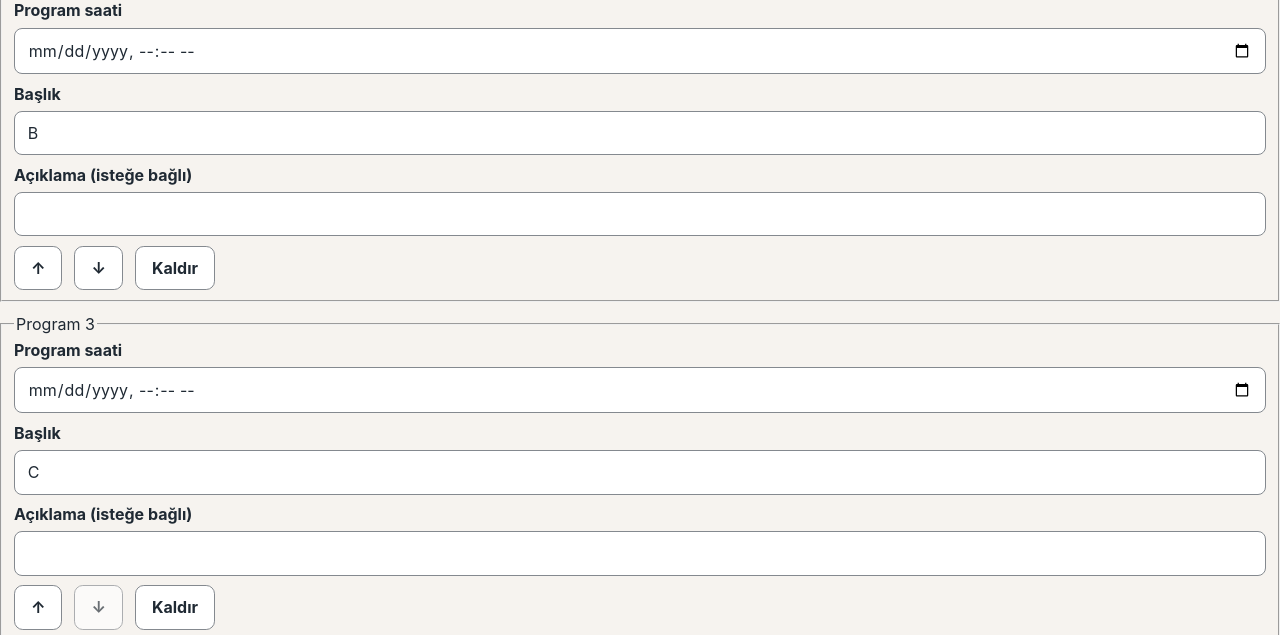
Scenario: ProgramListEditor › reorders with keyboard-reachable buttons and disables the ends
The image size is (1280, 635).
(page scrolled)
Check: the button named "Program 3: aşağı taşı" is disabled, box [74,585,123,630]
What coordinates should you click on to do the following:
click the button named "Program 3: yukarı taşı"
I would click on:
 (38, 608)
Its box is [14,585,62,630].
(page scrolled)
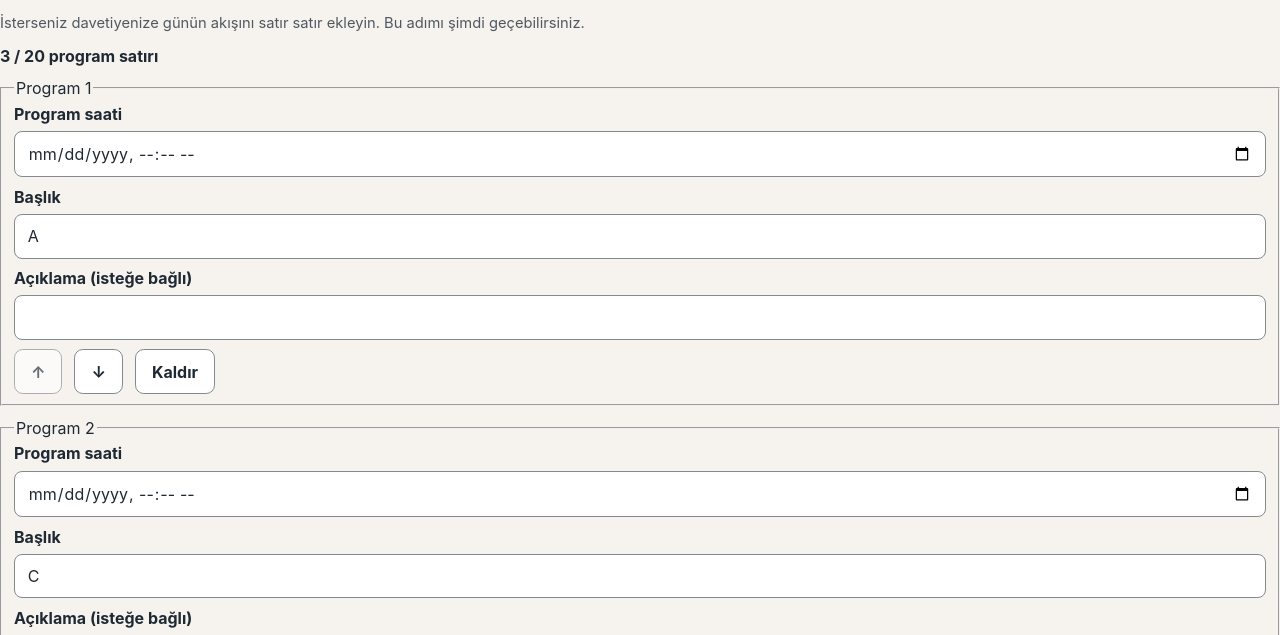
What coordinates should you click on to do the following:
click the button named "Program 1: aşağı taşı"
I would click on:
 (99, 372)
Its box is [74,349,123,394].
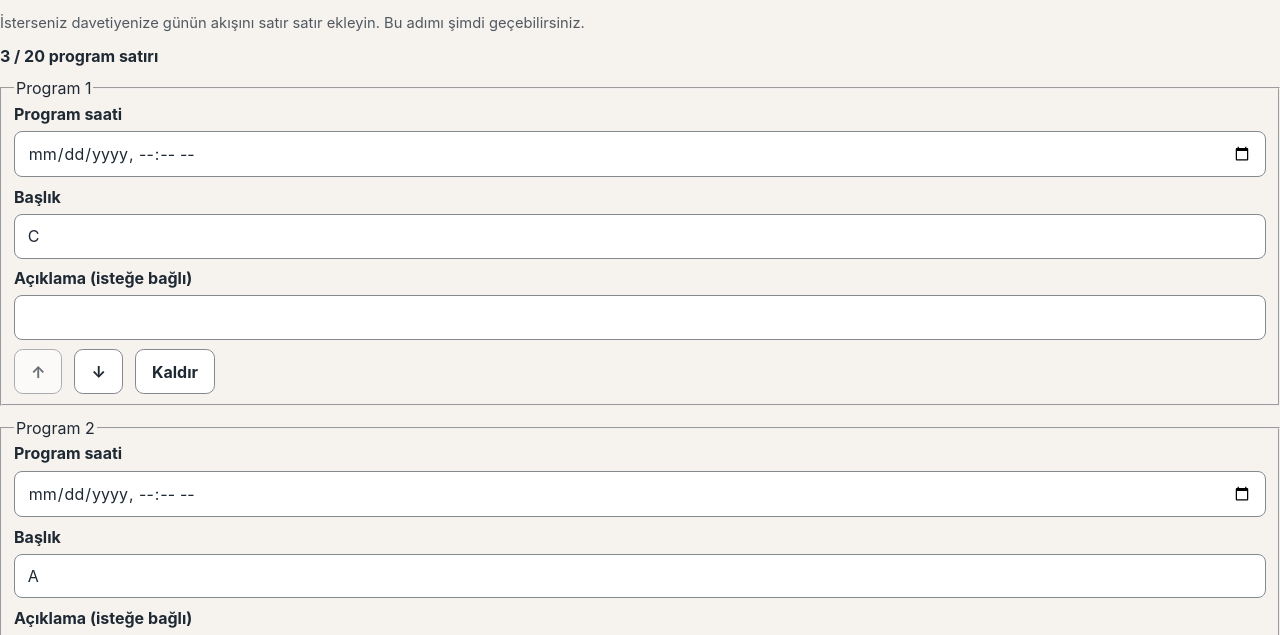
Check: the field named "Program 1: başlık" holds "C", box [14,214,1266,259]
